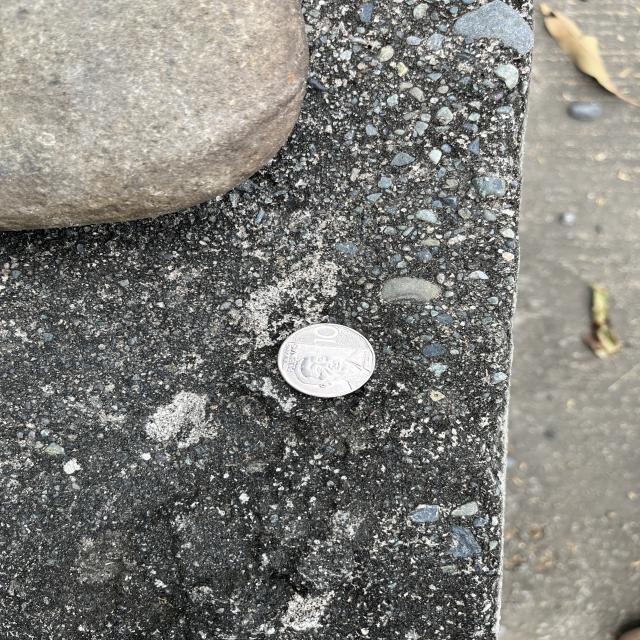10_New_Front: (311, 325, 355, 349)
